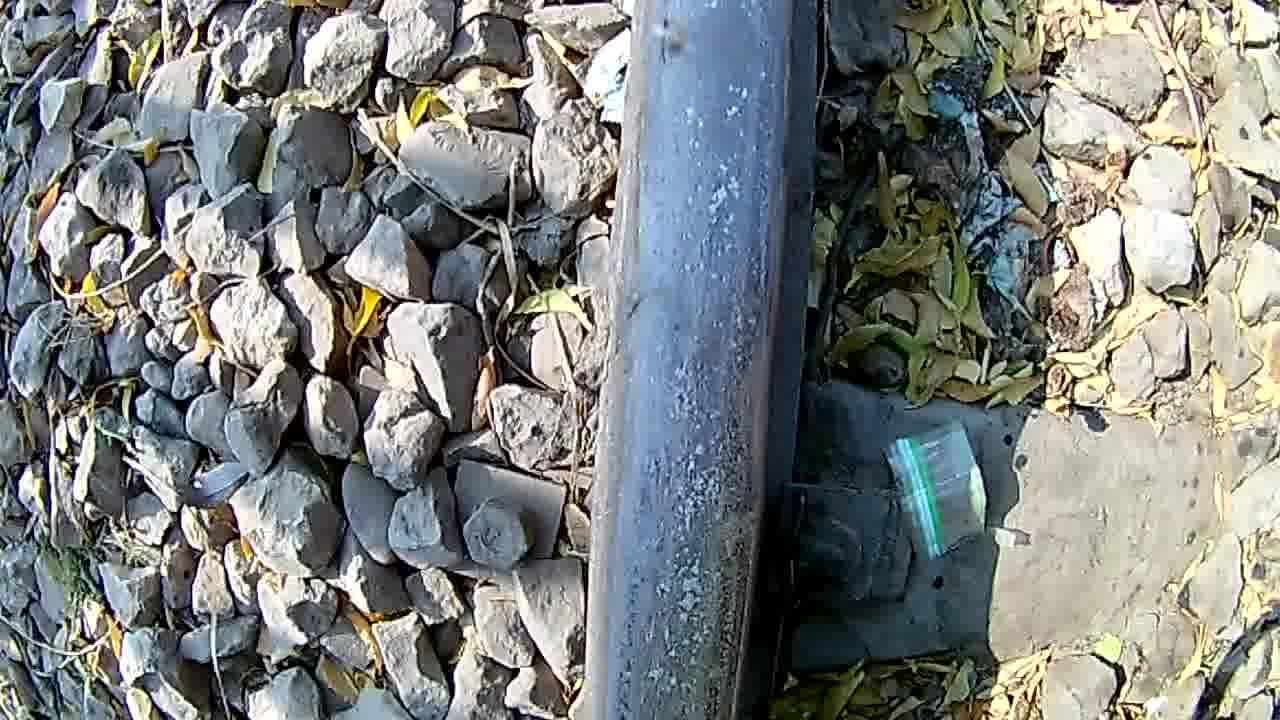bolt_missing: (613, 0, 790, 720)
